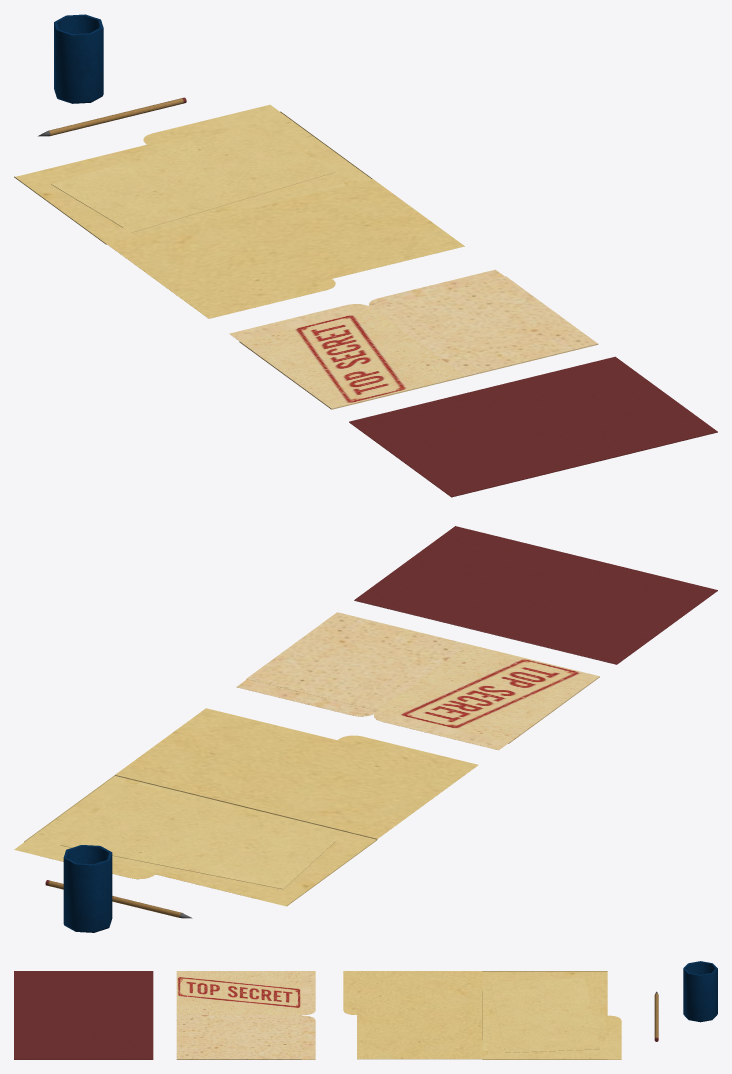
Rendered from office.obj.
3 views of the same model, one above another, from view 1: azimuth 30°, elevation 25°; view 2: azimuth 150°, elevation 25°; view 3: azimuth 270°, elevation 25° (orthographic). The views are drawn at different scales.
Parts seen in each view (by area): view 1: open_folder, red_folder, close_folder, paper, pencil_cup, pencil; view 2: open_folder, red_folder, close_folder, paper, pencil_cup; view 3: open_folder, red_folder, close_folder, paper, pencil_cup, pencil.
Part boxes in pixels (<box>): open_folder: <box>14,104,464,318</box>; red_folder: <box>349,356,717,497</box>; close_folder: <box>229,269,598,409</box>; paper: <box>51,123,335,232</box>; pencil_cup: <box>54,14,103,103</box>; pencil: <box>38,97,186,136</box>; open_folder: <box>14,708,478,906</box>; red_folder: <box>354,526,717,664</box>; close_folder: <box>236,612,599,750</box>; paper: <box>60,792,340,889</box>; pencil_cup: <box>63,845,112,932</box>; open_folder: <box>343,971,621,1059</box>; red_folder: <box>14,971,153,1059</box>; close_folder: <box>176,971,315,1059</box>; paper: <box>490,978,599,1052</box>; pencil_cup: <box>683,961,717,1022</box>; pencil: <box>654,991,658,1041</box>.
Size of the model in its own units: 0.18 by 0.0467 by 0.6069.
